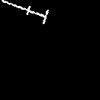double_crochet: (2, 0, 48, 23)
